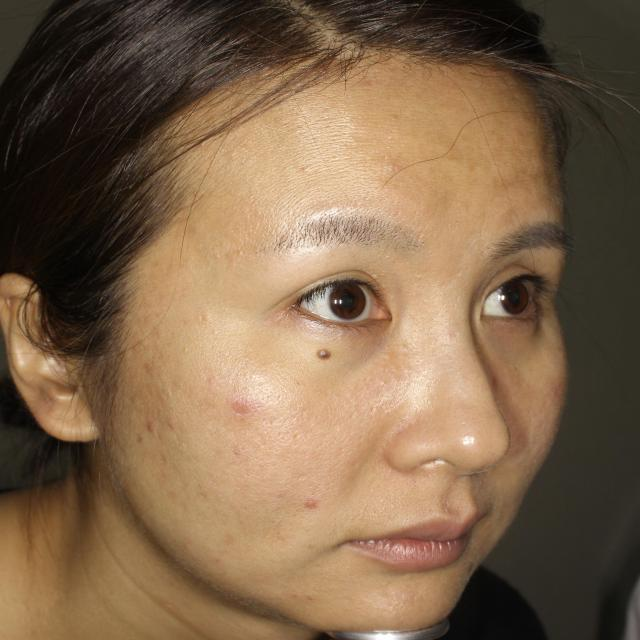comedone: (136, 412, 167, 440), (229, 396, 259, 419), (300, 496, 331, 515)
